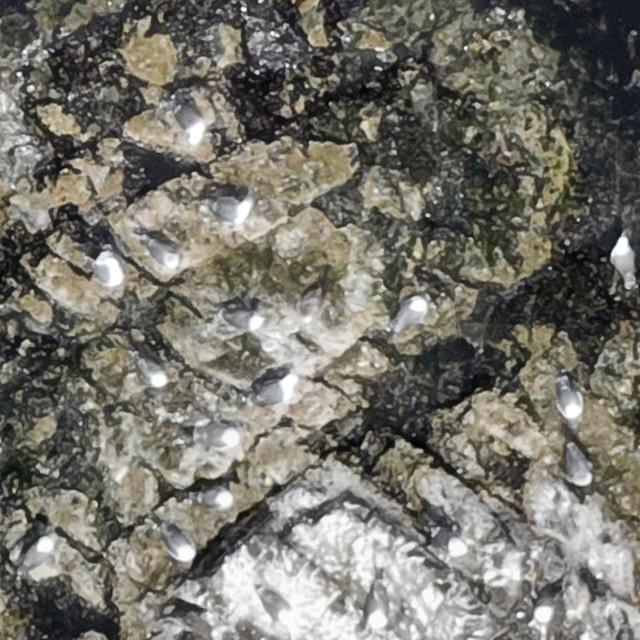umineko: (257, 584, 302, 628), (142, 232, 184, 271), (87, 251, 131, 287), (362, 583, 395, 631), (18, 538, 56, 579), (161, 524, 197, 565), (424, 523, 466, 556), (210, 196, 254, 226), (186, 425, 240, 449), (176, 104, 207, 144), (535, 588, 564, 626), (186, 488, 231, 510), (611, 238, 634, 280), (394, 297, 425, 327), (218, 308, 256, 328), (567, 448, 588, 484), (253, 383, 287, 403), (139, 359, 164, 386)
